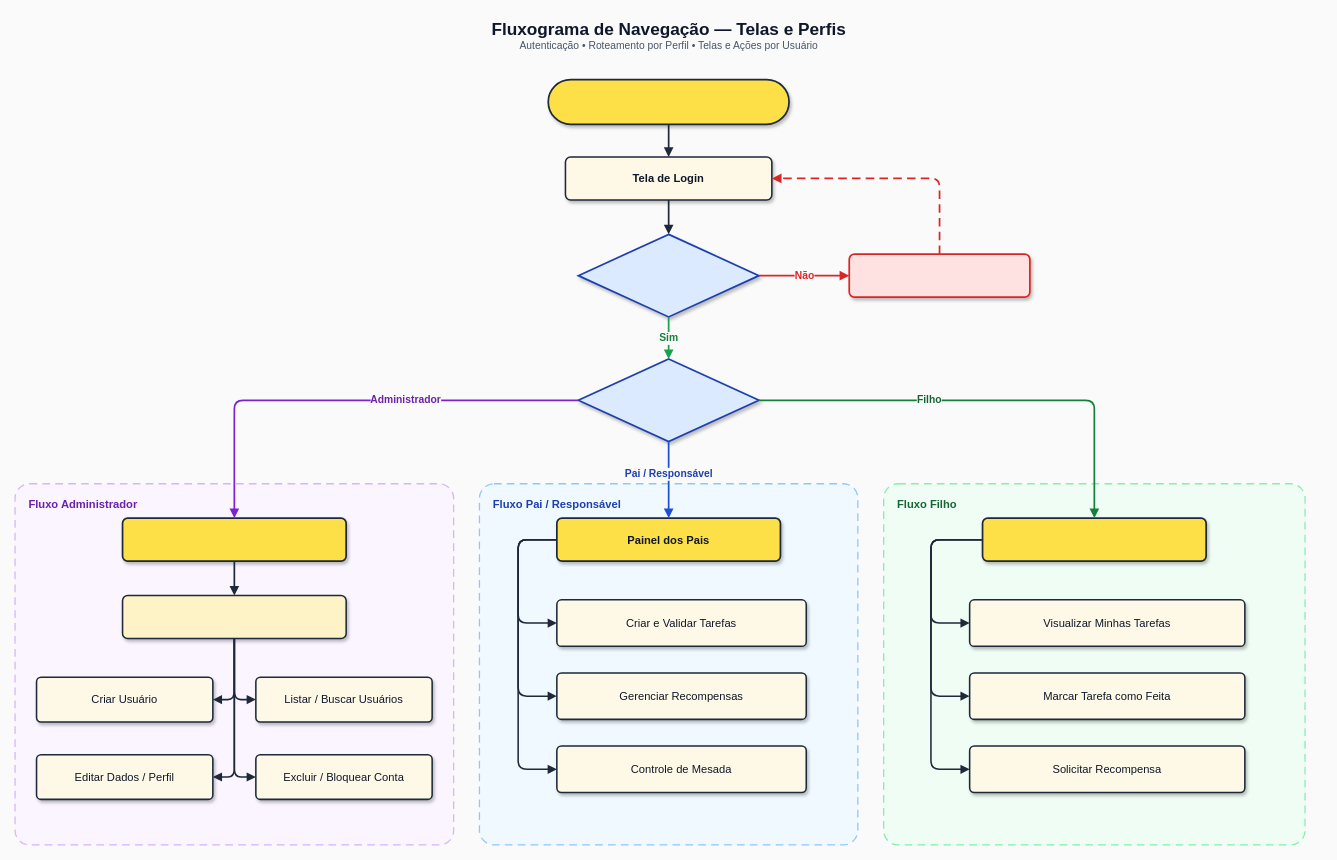
This 1337x860 diagram has some shape labels left out. The shapes that lost their labels are listed below. From the top down, each one's centre as x and y in pixels, then its label:
(x=669, y=103): Tela Home / Apresentação
(x=669, y=276): Credenciais Válidas?
(x=940, y=276): Exibir Erro de Login
(x=669, y=401): Qual o Perfil?
(x=235, y=540): Painel do Administrador
(x=1095, y=540): Painel do Filho
(x=235, y=618): CRUD de Usuários / Famílias
